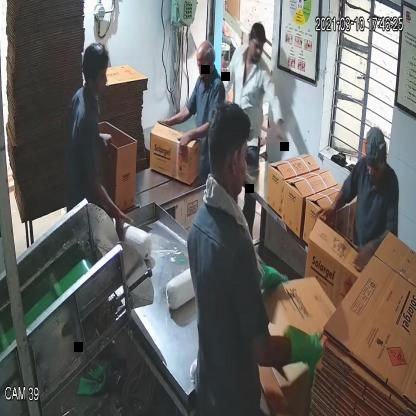glove: (276, 310, 329, 383), (254, 248, 300, 299)
no_glove: (87, 158, 132, 242), (262, 81, 293, 150), (315, 172, 346, 236), (170, 119, 218, 156)
